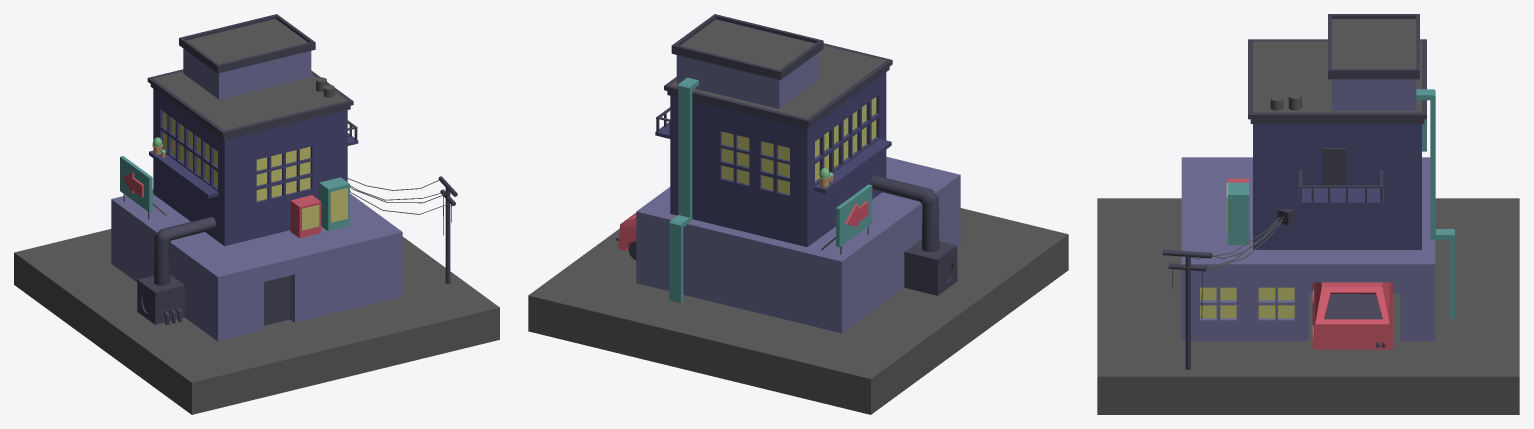
File: House_2.fbx
The picture shows the model from 3 angles, left to right: view 1: azimuth 30°, elevation 25°; view 2: azimuth 150°, elevation 25°; view 3: azimuth 270°, elevation 25°; orthographic projection. The views are drawn at different scales.
Visible parts, largest first — view 1: House_Tile_2, House_2, House_6, House_3, Airfilter, Vending_machines, Electricity, Advertisement; view 2: House_Tile_2, House_2, House_6, House_3, Airfilter, Cables, Advertisement, Car; view 3: House_Tile_2, House_2, House_6, House_3, Car, Electricity, Cables, Vending_machines, Vents.
Boxes of the visible parts, x1=… form: House_Tile_2: x1=14, y1=229, x2=499, y2=414; House_2: x1=147, y1=69, x2=358, y2=246; House_6: x1=111, y1=189, x2=402, y2=341; House_3: x1=179, y1=14, x2=315, y2=99; Airfilter: x1=137, y1=216, x2=216, y2=325; Vending_machines: x1=290, y1=177, x2=349, y2=238; Electricity: x1=347, y1=176, x2=457, y2=283; Advertisement: x1=120, y1=156, x2=166, y2=219; House_Tile_2: x1=528, y1=208, x2=1068, y2=414; House_2: x1=655, y1=43, x2=892, y2=246; House_6: x1=636, y1=156, x2=960, y2=333; House_3: x1=671, y1=14, x2=823, y2=108; Airfilter: x1=870, y1=175, x2=957, y2=295; Cables: x1=669, y1=77, x2=698, y2=302; Advertisement: x1=821, y1=184, x2=872, y2=254; Car: x1=616, y1=213, x2=636, y2=260; House_Tile_2: x1=1097, y1=198, x2=1519, y2=414; House_2: x1=1248, y1=39, x2=1426, y2=249; House_6: x1=1181, y1=157, x2=1435, y2=340; House_3: x1=1328, y1=14, x2=1419, y2=110; Car: x1=1312, y1=282, x2=1392, y2=349; Electricity: x1=1163, y1=209, x2=1296, y2=369; Cables: x1=1416, y1=89, x2=1454, y2=318; Vending_machines: x1=1226, y1=178, x2=1249, y2=244; Vents: x1=1270, y1=93, x2=1301, y2=110.
Size of the model in its own units: 10 by 7.68 by 10.
